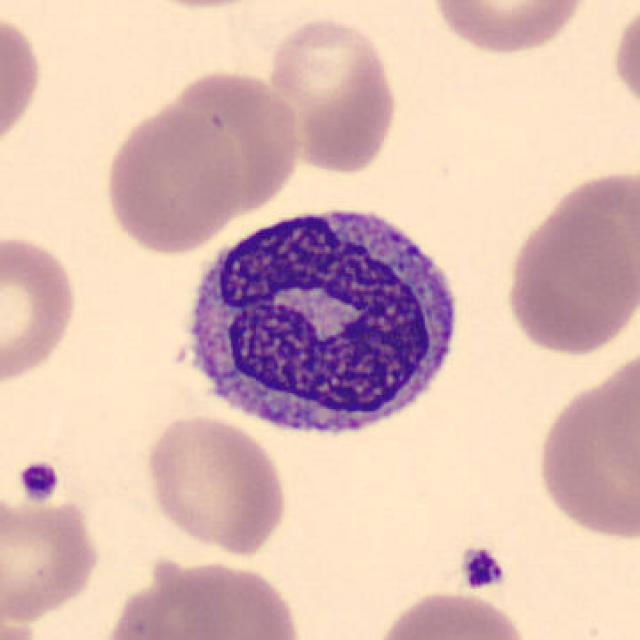Monocyte: (165, 192, 471, 457)
Platelets: (455, 543, 510, 594), (14, 458, 62, 506)
RBC: (502, 183, 638, 358), (263, 11, 402, 176), (156, 67, 306, 219), (140, 411, 290, 557), (100, 102, 242, 256), (530, 360, 638, 544), (107, 556, 306, 638), (0, 492, 103, 622), (0, 229, 82, 388), (425, 0, 594, 58), (366, 587, 537, 640), (0, 7, 46, 159), (608, 0, 638, 125), (0, 601, 50, 640), (121, 0, 281, 12)
